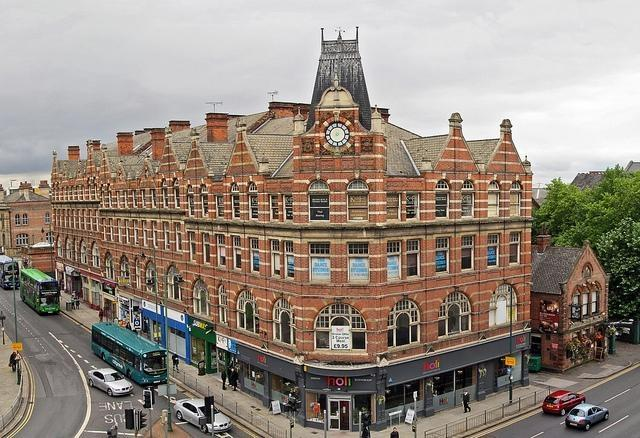bus: (90, 316, 168, 388), (19, 268, 59, 314), (0, 254, 20, 289)
car: (172, 398, 233, 434), (538, 388, 588, 417), (85, 368, 134, 396), (566, 404, 610, 431)
